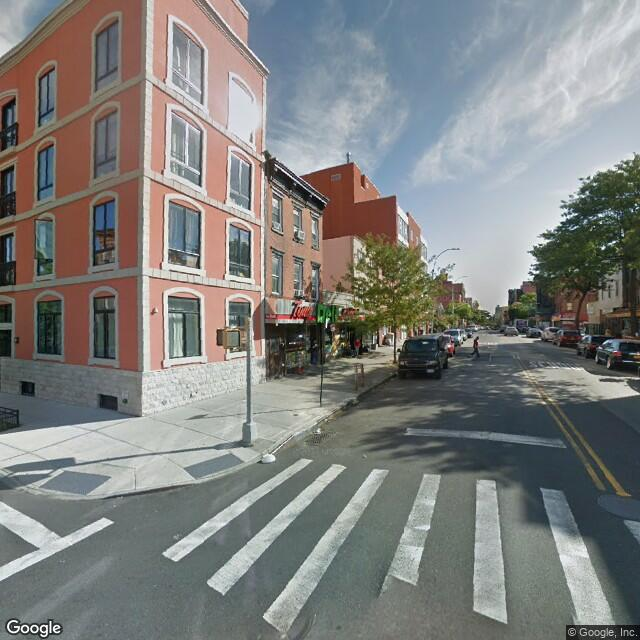litter: (310, 428, 345, 445), (258, 450, 283, 468), (323, 414, 335, 427)
